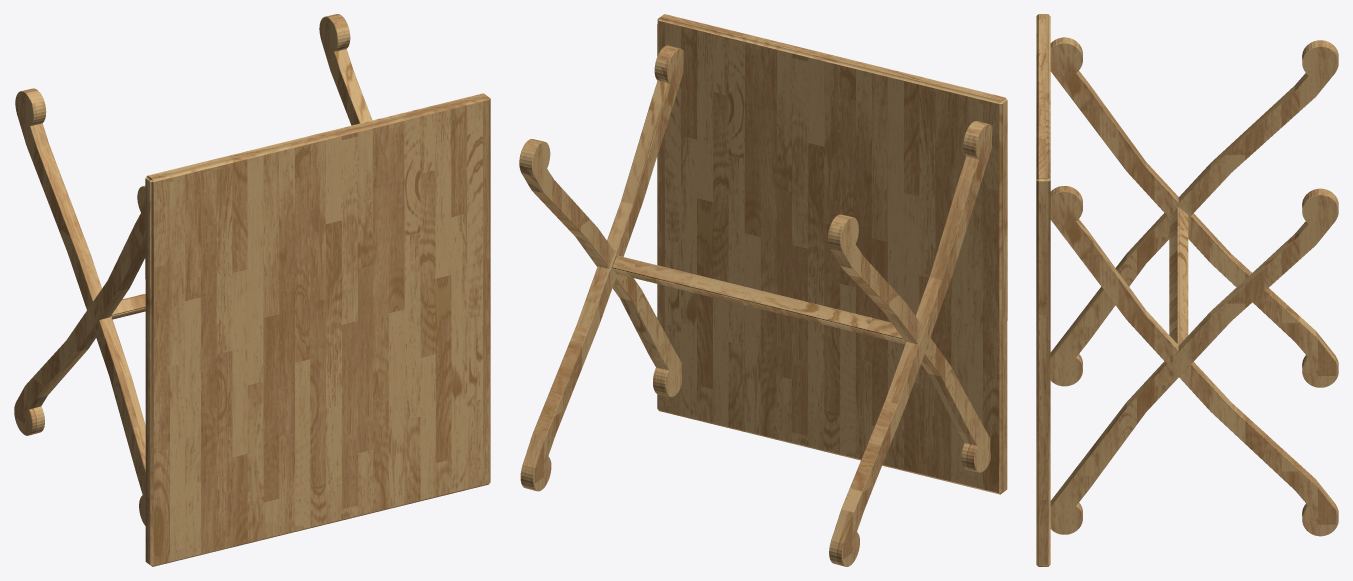
Rendered from MeshSideTable_218_0.obj.
3 renders of one model, left to right at view 1: azimuth 30°, elevation 25°; view 2: azimuth 150°, elevation 25°; view 3: azimuth 270°, elevation 25°, orthographic.
Parts seen in each view (by area): view 1: SideTable_218; view 2: SideTable_218; view 3: SideTable_218.
Part boxes in pixels (x1,y1,x2,y2): SideTable_218: (14, 14, 490, 566); SideTable_218: (519, 14, 1007, 566); SideTable_218: (1036, 14, 1338, 566).
Bounding box in the file's own units: 0.7047 × 0.7675 × 0.5409.
